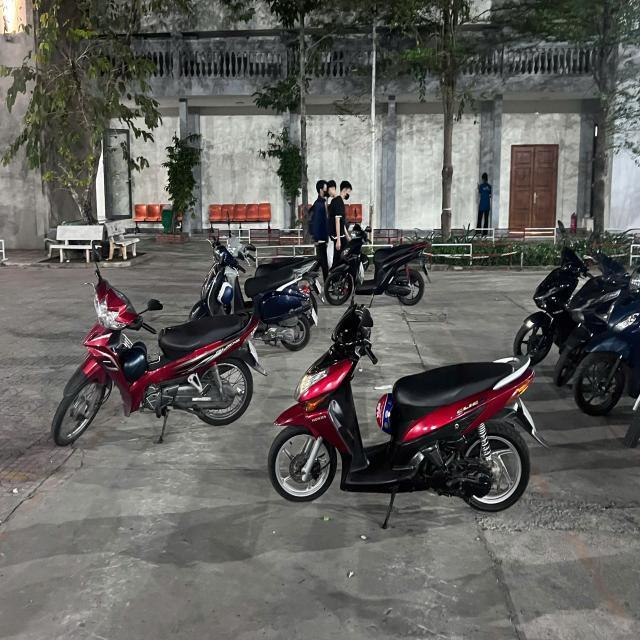motorcycle: (263, 293, 545, 524), (48, 264, 258, 452), (189, 226, 318, 352), (555, 270, 640, 427), (323, 221, 432, 308)
